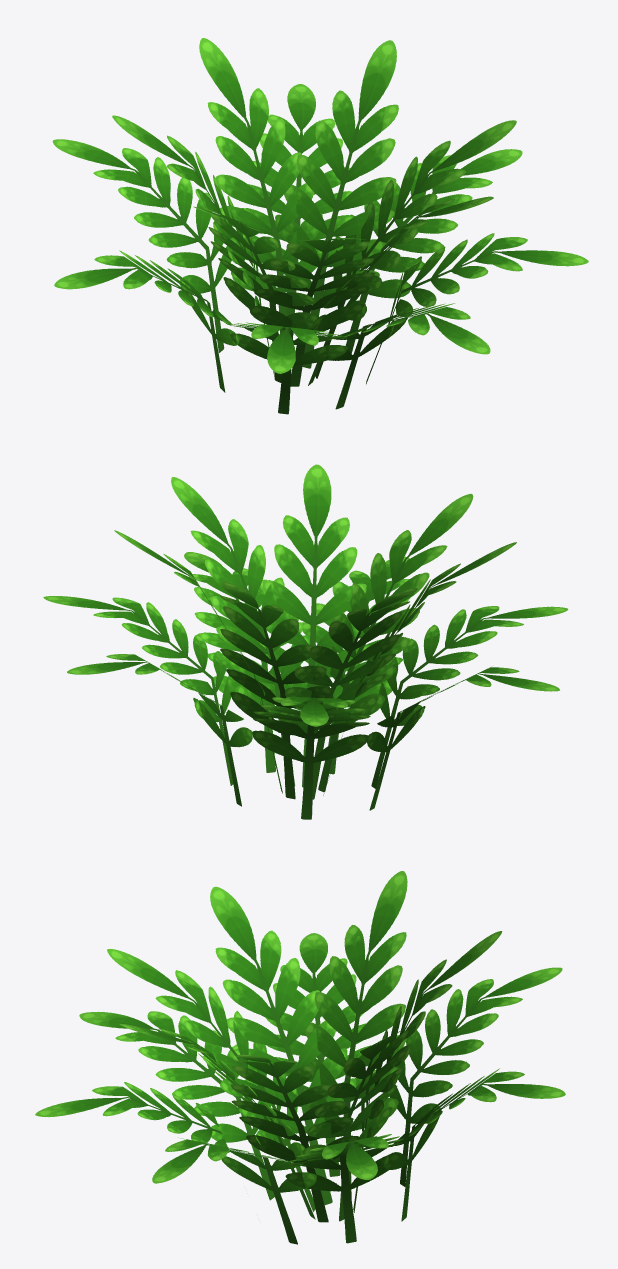
File: Grass_02.FBX
3 renders of one model, top to bottom at view 1: azimuth 30°, elevation 25°; view 2: azimuth 150°, elevation 25°; view 3: azimuth 270°, elevation 25°, orthographic.
Visible parts, largest first — view 1: Grass_02; view 2: Grass_02; view 3: Grass_02.
Boxes of the visible parts, <box> form: Grass_02: <box>52,38,588,414</box>; Grass_02: <box>43,464,568,819</box>; Grass_02: <box>35,871,565,1244</box>.
Size of the model in its own units: 62.22 by 33.67 by 60.93.
